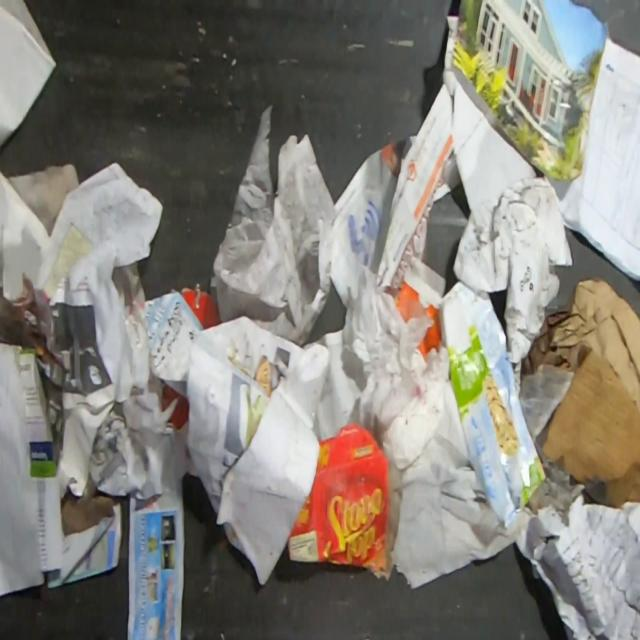cardboard: (540, 347, 640, 509), (288, 421, 389, 571), (170, 281, 218, 329), (158, 383, 188, 428)
rigid_plastic: (123, 316, 148, 351)
